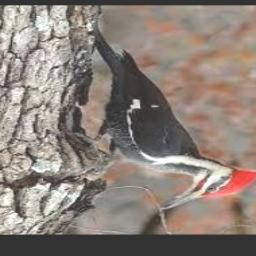Woodpecker: (92, 20, 256, 209)
